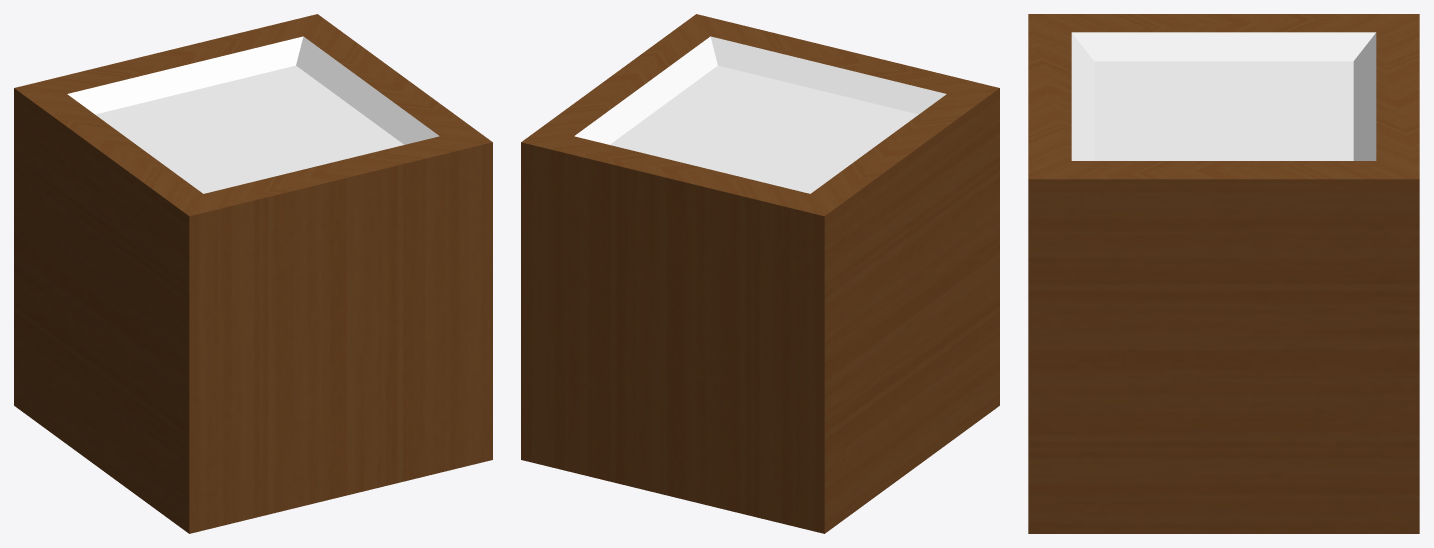
File: cannon_1_side_base.fbx
The picture shows the model from 3 angles, left to right: view 1: azimuth 30°, elevation 25°; view 2: azimuth 150°, elevation 25°; view 3: azimuth 270°, elevation 25°; orthographic projection. The views are drawn at different scales.
Parts seen in each view (by area): view 1: Cube.204; view 2: Cube.204; view 3: Cube.204.
Part boxes in pixels (box(x1,y1,x2,y2)): Cube.204: box(14, 14, 492, 533); Cube.204: box(521, 14, 999, 533); Cube.204: box(1028, 14, 1419, 533).
Bounding box in the file's own units: 23.48 × 23.48 × 23.48.
